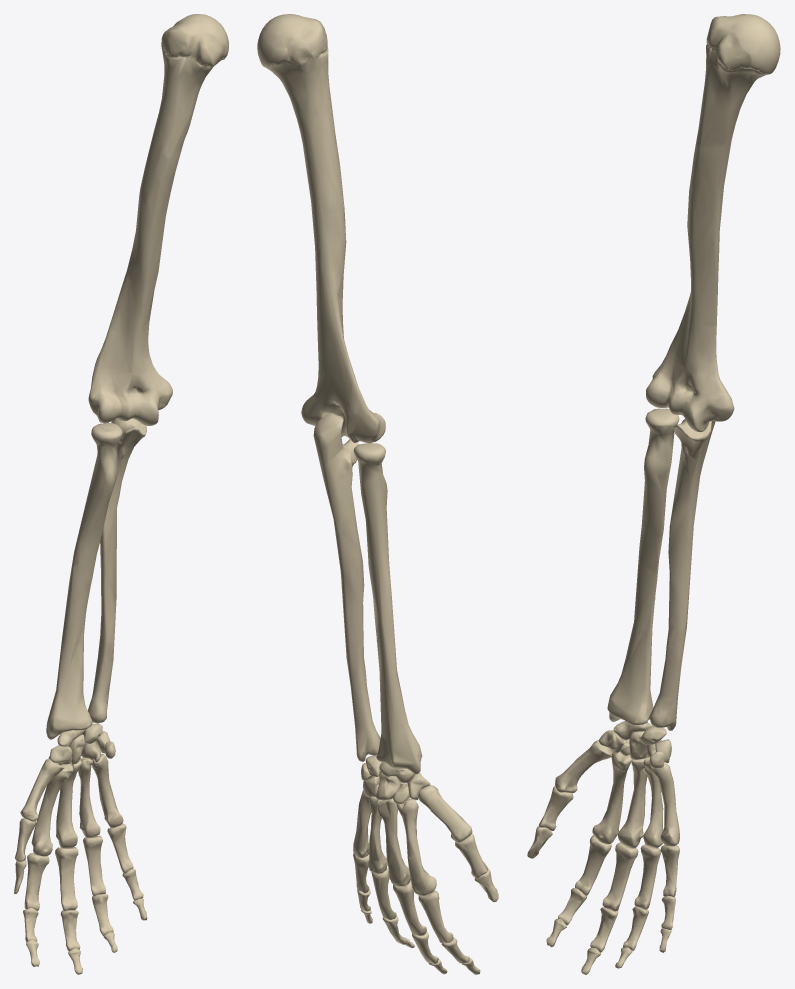
The model's file is elbow_r.core.glb.
3 renders of one model, left to right at view 1: azimuth 30°, elevation 25°; view 2: azimuth 150°, elevation 25°; view 3: azimuth 330°, elevation 25°, orthographic. The views are drawn at different scales.
Visible parts, largest first — view 1: elbow_r__bone__humerus__mesh, elbow_r__bone__radius__mesh, elbow_r__bone__ulna__mesh, elbow_r__follow__metacarpal_2__mesh, elbow_r__follow__metacarpal_3__mesh, elbow_r__follow__proximal_phalanx_hand_3__mesh, elbow_r__follow__metacarpal_4__mesh, elbow_r__follow__metacarpal_5__mesh, elbow_r__follow__metacarpal_1__mesh, elbow_r__follow__proximal_phalanx_hand_2__mesh, elbow_r__follow__proximal_phalanx_hand_4__mesh, elbow_r__follow__proximal_phalanx_hand_5__mesh (+3 smaller); view 2: elbow_r__bone__humerus__mesh, elbow_r__bone__ulna__mesh, elbow_r__bone__radius__mesh, elbow_r__follow__metacarpal_2__mesh, elbow_r__follow__metacarpal_3__mesh, elbow_r__follow__metacarpal_1__mesh, elbow_r__follow__metacarpal_4__mesh, elbow_r__follow__metacarpal_5__mesh, elbow_r__follow__proximal_phalanx_hand_2__mesh, elbow_r__follow__proximal_phalanx_hand_3__mesh, elbow_r__follow__proximal_phalanx_hand_1__mesh, elbow_r__follow__proximal_phalanx_hand_4__mesh; view 3: elbow_r__bone__humerus__mesh, elbow_r__bone__radius__mesh, elbow_r__bone__ulna__mesh, elbow_r__follow__metacarpal_2__mesh, elbow_r__follow__metacarpal_3__mesh, elbow_r__follow__metacarpal_5__mesh, elbow_r__follow__metacarpal_1__mesh, elbow_r__follow__proximal_phalanx_hand_3__mesh, elbow_r__follow__metacarpal_4__mesh, elbow_r__follow__proximal_phalanx_hand_4__mesh, elbow_r__follow__proximal_phalanx_hand_2__mesh, elbow_r__follow__proximal_phalanx_hand_1__mesh (+2 smaller).
Part boxes in pixels (x1,y1,x2,y2): elbow_r__bone__humerus__mesh: (88, 14, 228, 425); elbow_r__bone__radius__mesh: (46, 422, 122, 739); elbow_r__bone__ulna__mesh: (88, 418, 146, 723); elbow_r__follow__metacarpal_2__mesh: (31, 763, 73, 856); elbow_r__follow__metacarpal_3__mesh: (56, 760, 81, 848); elbow_r__follow__proximal_phalanx_hand_3__mesh: (55, 847, 78, 911); elbow_r__follow__metacarpal_4__mesh: (78, 757, 100, 837); elbow_r__follow__metacarpal_5__mesh: (92, 754, 123, 827); elbow_r__follow__metacarpal_1__mesh: (20, 759, 64, 821); elbow_r__follow__proximal_phalanx_hand_2__mesh: (24, 853, 49, 910); elbow_r__follow__proximal_phalanx_hand_4__mesh: (83, 835, 105, 895); elbow_r__follow__proximal_phalanx_hand_5__mesh: (107, 823, 133, 873); elbow_r__bone__humerus__mesh: (257, 14, 385, 442); elbow_r__bone__ulna__mesh: (313, 413, 380, 761); elbow_r__bone__radius__mesh: (353, 443, 422, 774); elbow_r__follow__metacarpal_2__mesh: (396, 798, 436, 895); elbow_r__follow__metacarpal_3__mesh: (377, 798, 410, 886); elbow_r__follow__metacarpal_1__mesh: (418, 785, 472, 842); elbow_r__follow__metacarpal_4__mesh: (368, 796, 387, 873); elbow_r__follow__metacarpal_5__mesh: (353, 790, 371, 857); elbow_r__follow__proximal_phalanx_hand_2__mesh: (418, 890, 453, 942); elbow_r__follow__proximal_phalanx_hand_3__mesh: (393, 881, 426, 935); elbow_r__follow__proximal_phalanx_hand_1__mesh: (455, 833, 487, 878); elbow_r__follow__proximal_phalanx_hand_4__mesh: (371, 868, 396, 919); elbow_r__bone__humerus__mesh: (646, 14, 780, 432); elbow_r__bone__radius__mesh: (607, 408, 679, 724); elbow_r__bone__ulna__mesh: (649, 419, 715, 730); elbow_r__follow__metacarpal_2__mesh: (592, 752, 633, 844); elbow_r__follow__metacarpal_3__mesh: (618, 758, 647, 848); elbow_r__follow__metacarpal_5__mesh: (650, 763, 679, 846); elbow_r__follow__metacarpal_1__mesh: (555, 740, 611, 793); elbow_r__follow__proximal_phalanx_hand_3__mesh: (602, 842, 638, 911); elbow_r__follow__metacarpal_4__mesh: (643, 765, 663, 848); elbow_r__follow__proximal_phalanx_hand_4__mesh: (634, 844, 660, 909); elbow_r__follow__proximal_phalanx_hand_2__mesh: (575, 835, 611, 895); elbow_r__follow__proximal_phalanx_hand_1__mesh: (538, 786, 573, 830).
Size of the model in its own units: 0.1841 by 0.7263 by 0.0631.
Materials: 1 (1 with a texture image).
